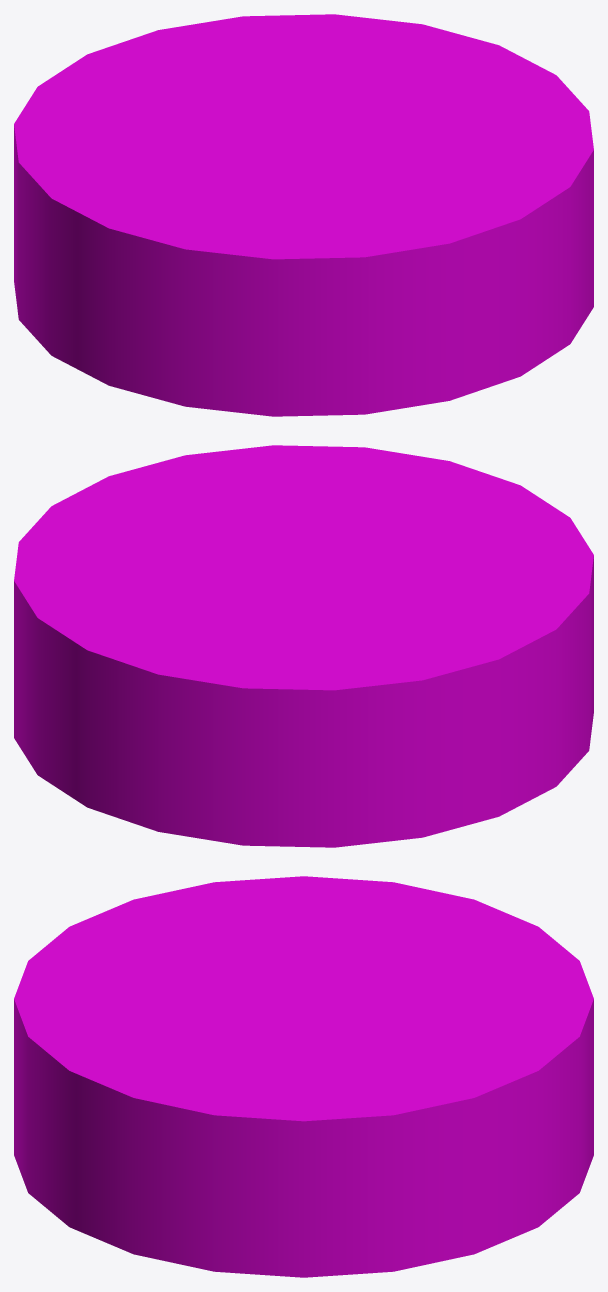
Rendered from Pink Coin U.fbx.
3 views of the same model, one above another, from view 1: azimuth 30°, elevation 25°; view 2: azimuth 150°, elevation 25°; view 3: azimuth 270°, elevation 25° (orthographic).
Parts seen in each view (by area): view 1: pCylinder1; view 2: pCylinder1; view 3: pCylinder1.
Part boxes in pixels (x1,y1,x2,y2): pCylinder1: (14, 14, 593, 416); pCylinder1: (14, 445, 593, 847); pCylinder1: (14, 876, 593, 1277).
Size of the model in its own units: 2 by 0.5952 by 2.
